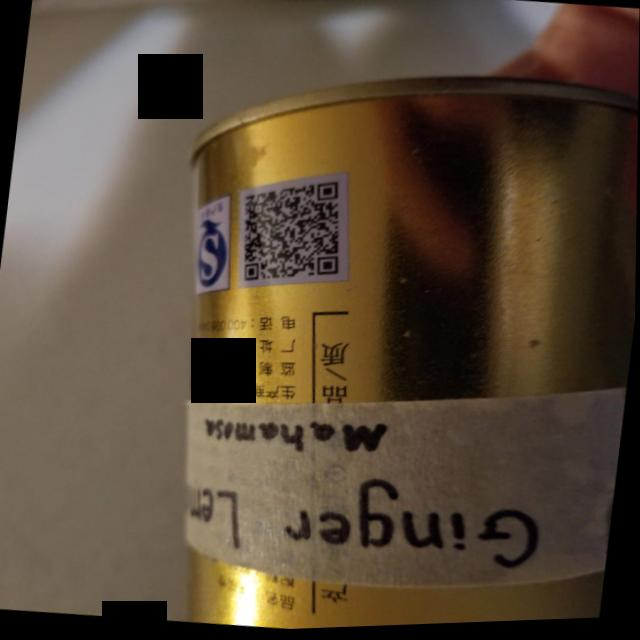QR_CODE: (223, 169, 358, 306)
